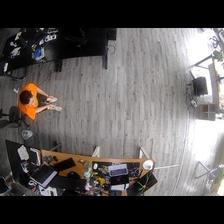normal: (17, 81, 62, 120)
